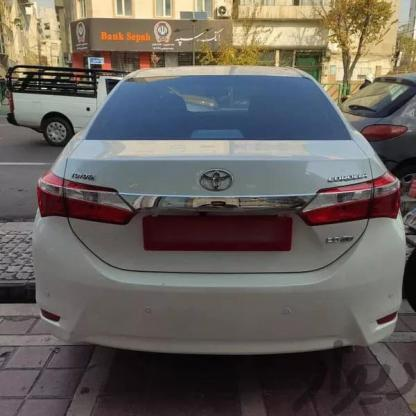Car: (24, 66, 406, 361), (0, 70, 167, 136), (340, 61, 416, 182)
